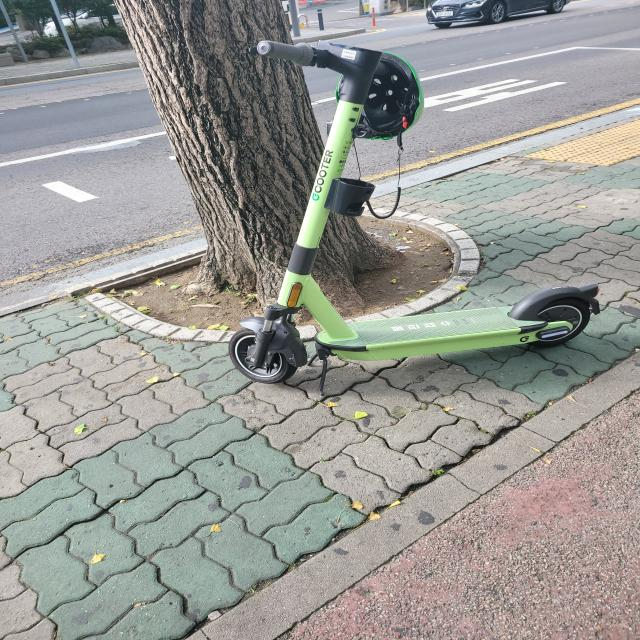bike: (228, 40, 601, 396)
car: (426, 0, 573, 29)
